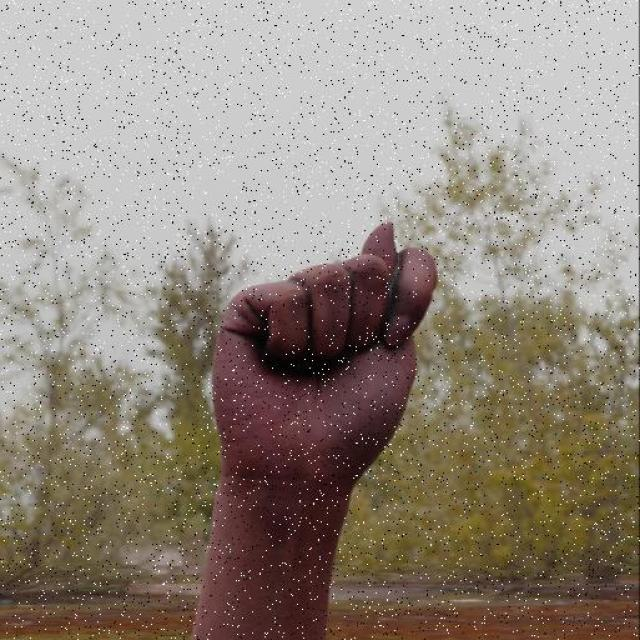T: (206, 218, 442, 492)
